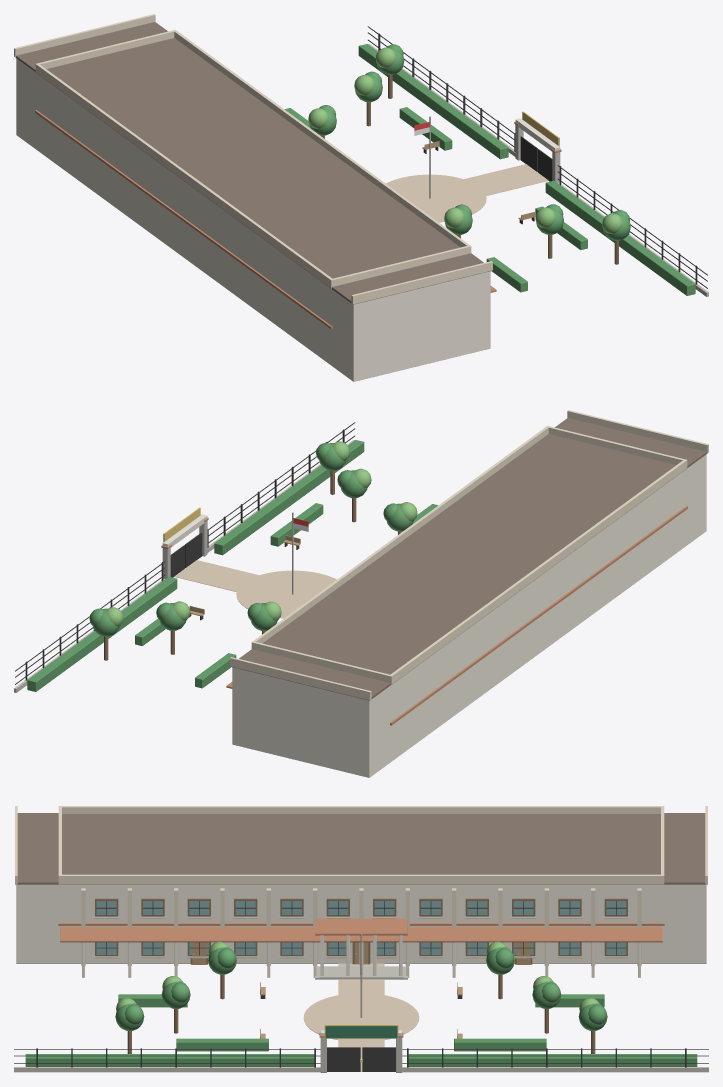
The model's file is SchoolCampus.fbx.
3 views of the same model, one above another, from view 1: azimuth 30°, elevation 25°; view 2: azimuth 150°, elevation 25°; view 3: azimuth 270°, elevation 25° (orthographic). The views are drawn at different scales.
Visible parts, largest first — view 1: SchoolCampus; view 2: SchoolCampus; view 3: SchoolCampus.
Boxes of the visible parts, x1,y1,x2,y2 form: SchoolCampus: (14,14,708,381); SchoolCampus: (14,410,708,777); SchoolCampus: (14,806,708,1072).
Size of the model in its own units: 36.6 by 8.46 by 60.
